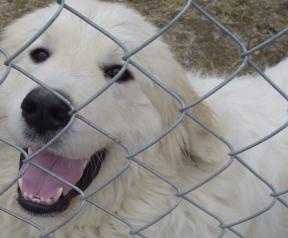dog: (0, 0, 216, 238)
